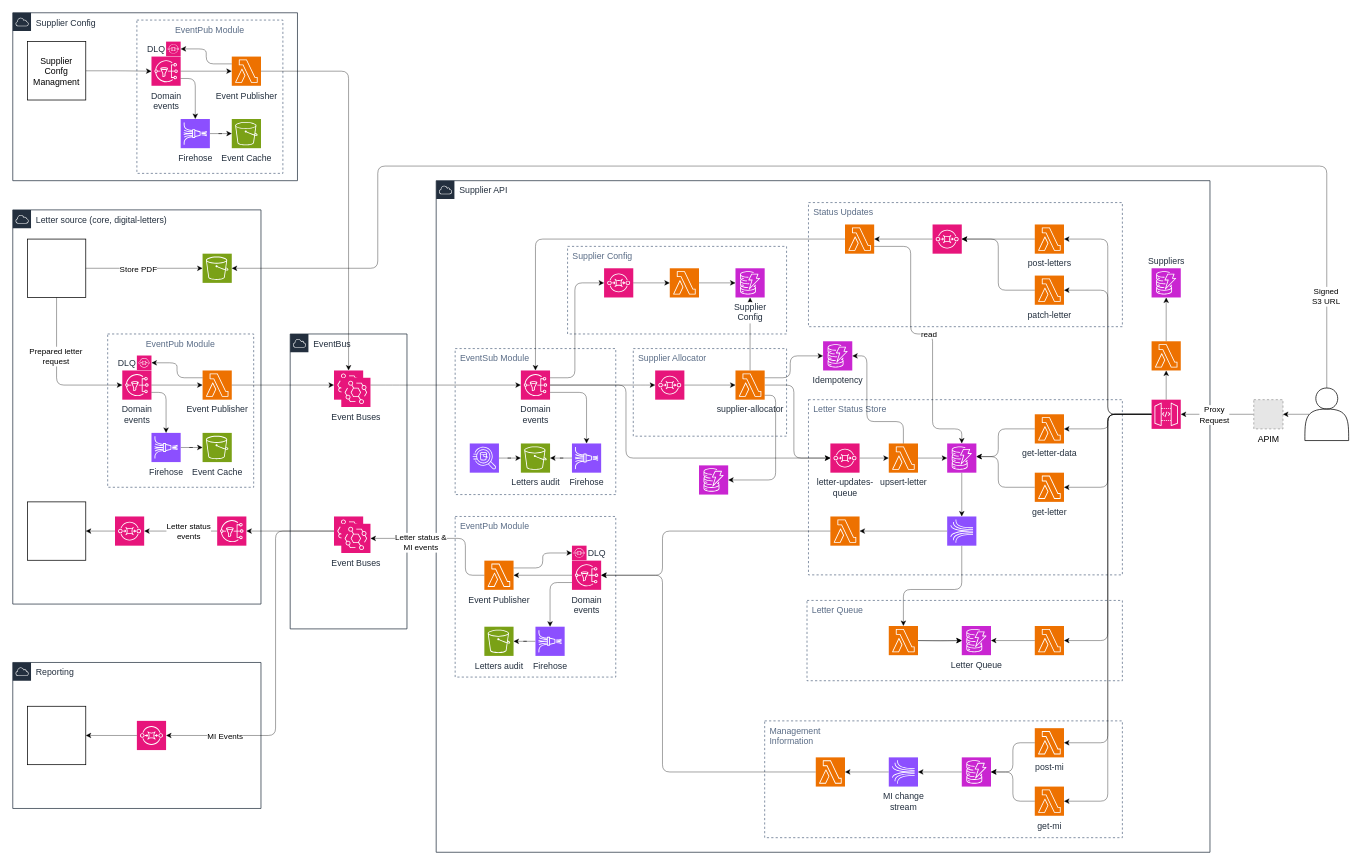
Some shapes in this 1361 by 865 pixel diagram are drawn without their labels. Grey dashed boxes stand in for pictures. The shapes that lost their labels are listed below. From the top down, each one's centre as x and y in pixels, then its label:
the point at 859,239: amendment-event- transformer
the point at 947,239: amendments queue
the point at 56,267: Letter Preparation
the point at 217,268: Letter PDF Store
the point at 618,282: supplier-config- queue
the point at 684,282: supplier-config- ingress
the point at 1166,355: Authorizer
the point at 669,385: supplier-allocator- queue
the point at 1166,414: Supplier API GW
the point at 1326,414: Supplier
the point at 484,458: Athena
the point at 961,458: Letters
the point at 713,480: Supplier Quotas
the point at 56,530: Letter Callback Process
the point at 129,531: Inbound Letter Status Queue
the point at 231,531: Account events
the point at 845,531: letter-updates- transformer
the point at 961,531: letter-change-stream
the point at 903,640: update-letter-queue
the point at 1049,640: list-letters
the point at 56,735: Reporting data collection
the point at 151,735: Inbound MI Queue
the point at 830,772: mi-updates- transformer
the point at 976,772: MI
